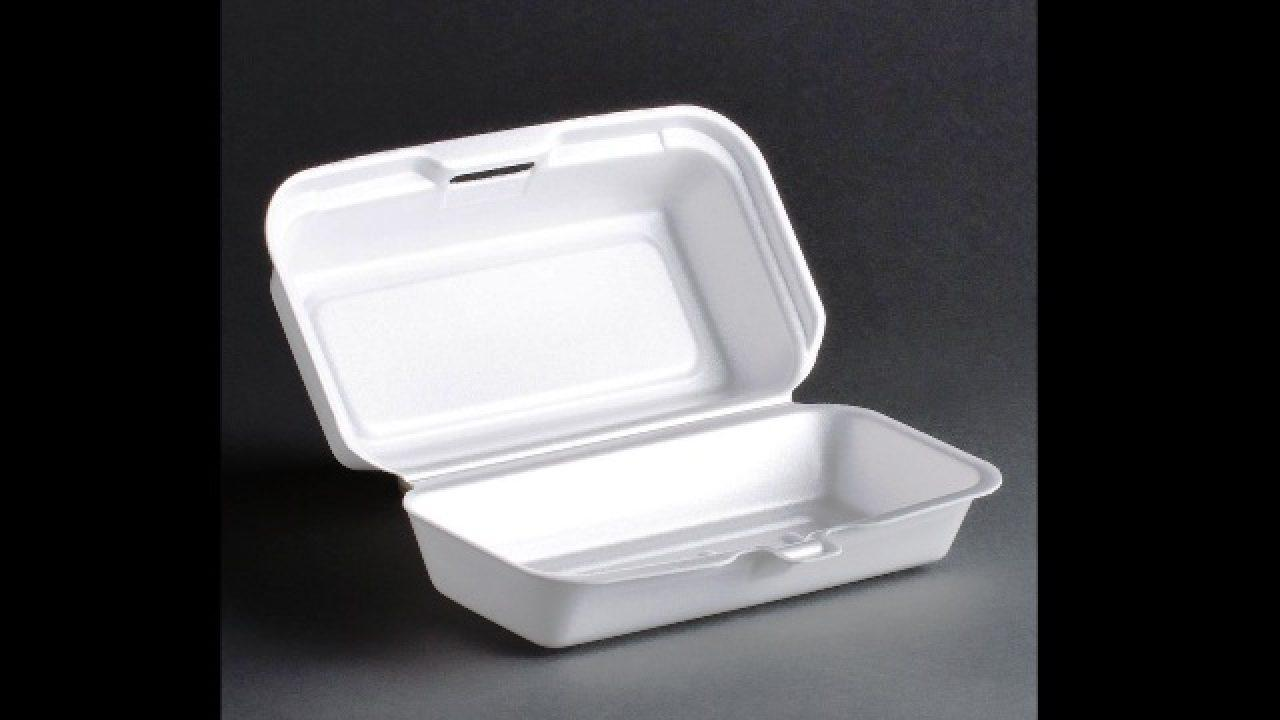PS: (181, 21, 1114, 720)
